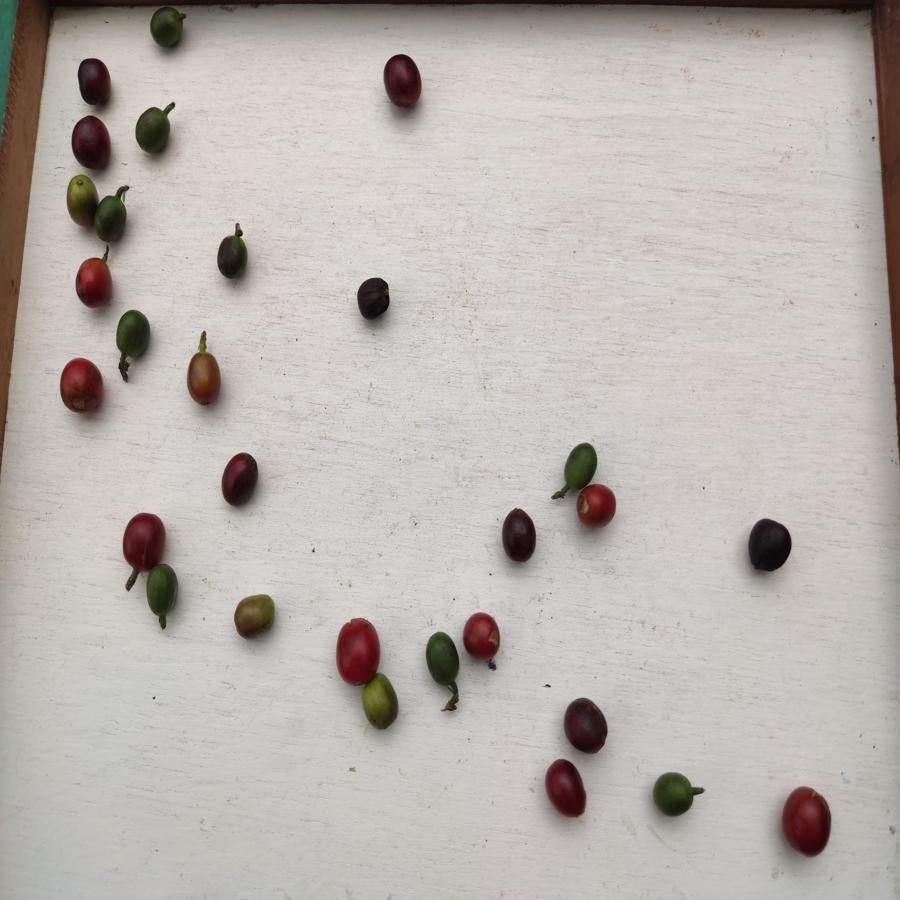Inmaduro: (112, 308, 154, 361), (422, 628, 459, 688), (145, 563, 180, 618), (135, 106, 172, 156), (654, 769, 692, 817), (95, 192, 130, 244), (149, 5, 187, 49), (215, 233, 250, 278), (564, 443, 598, 488)
Maduro: (781, 786, 833, 856), (334, 620, 382, 684), (73, 252, 117, 308), (458, 608, 501, 660), (574, 483, 620, 525)
Pinton: (185, 353, 226, 405), (234, 593, 278, 641), (360, 680, 398, 729), (64, 172, 98, 226)
Sobremaduro: (563, 697, 610, 756), (57, 355, 103, 412), (381, 52, 424, 112), (122, 510, 163, 570), (547, 760, 585, 823), (748, 517, 791, 572), (72, 113, 112, 171), (220, 450, 258, 507), (75, 57, 113, 108), (501, 509, 537, 560), (358, 274, 392, 323)
